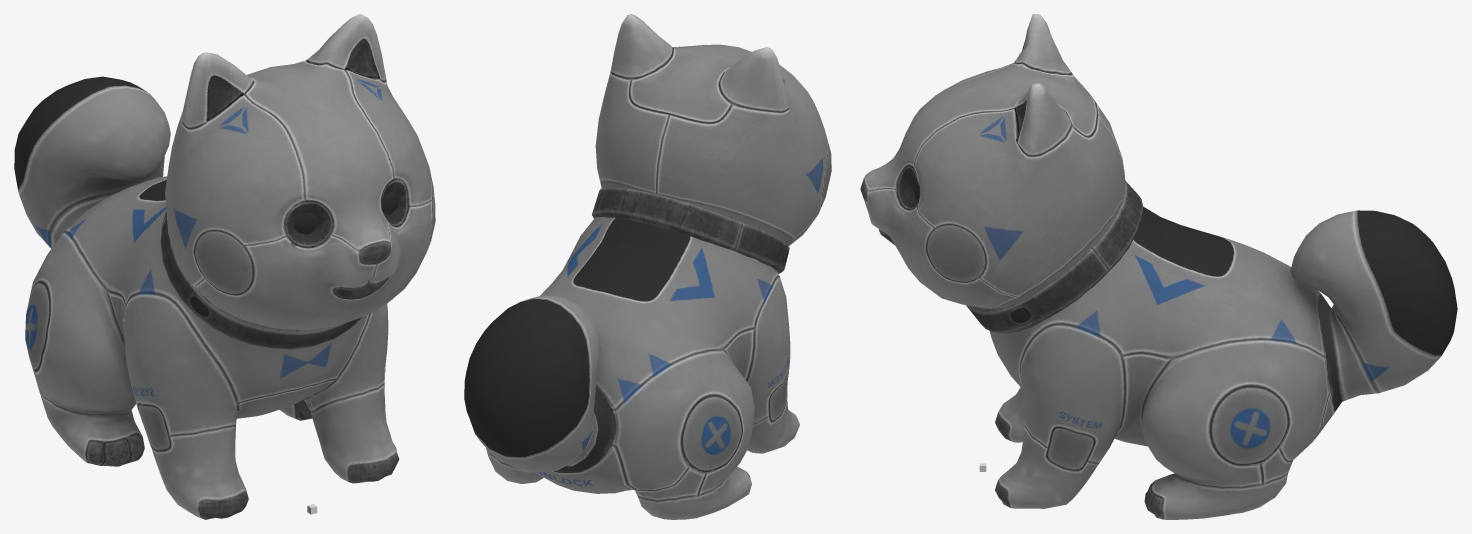
Rendered from robo-shiba-v2-C0gt7OQX.glb.
3 views of the same model, side by side, from view 1: azimuth 30°, elevation 25°; view 2: azimuth 150°, elevation 25°; view 3: azimuth 270°, elevation 25° (orthographic). The views are drawn at different scales.
Visible parts, largest first — view 1: Shiba_Shiba_0; view 2: Shiba_Shiba_0; view 3: Shiba_Shiba_0.
Boxes of the visible parts, x1,y1,x2,y2 form: Shiba_Shiba_0: (14,14,435,519); Shiba_Shiba_0: (464,14,831,519); Shiba_Shiba_0: (860,14,1457,519).
Bounding box in the file's own units: 92.09 × 138 × 177.
Materials: 2 (1 with a texture image).
